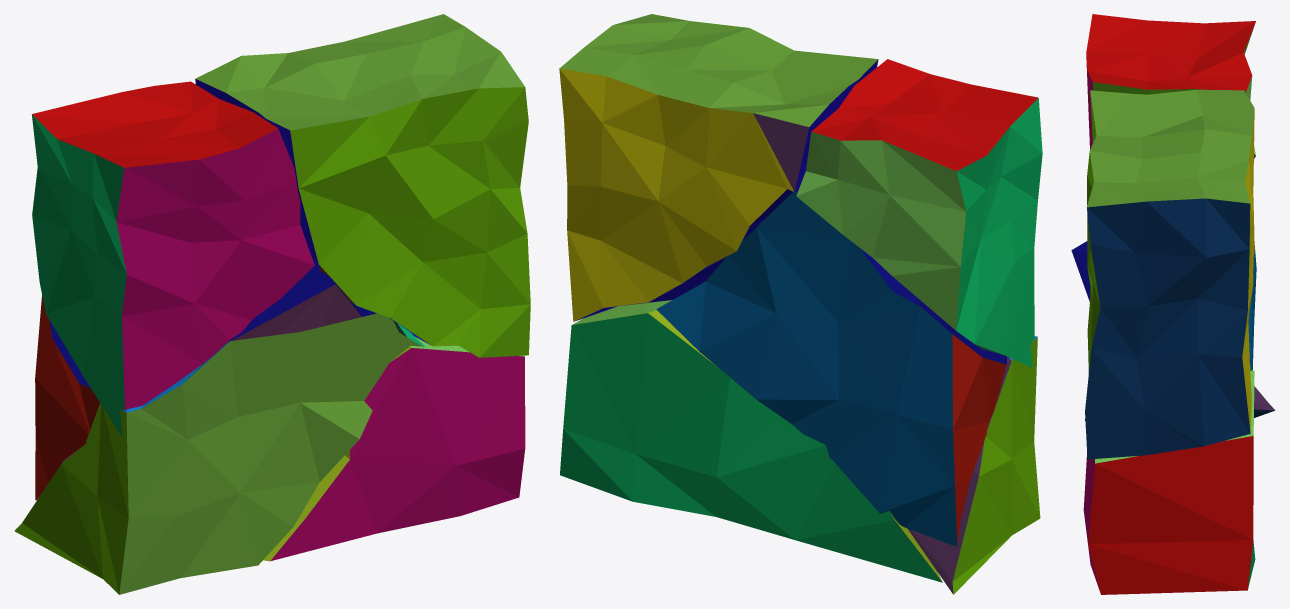
File: CrackedWall.fbx
The picture shows the model from 3 angles, left to right: view 1: azimuth 30°, elevation 25°; view 2: azimuth 150°, elevation 25°; view 3: azimuth 270°, elevation 25°; orthographic projection. The views are drawn at different scales.
Parts seen in each view (by area): view 1: CrackedWall, CrackedWall.002, CrackedWall.003, CrackedWall.004, CrackedWall.001; view 2: CrackedWall, CrackedWall.001, CrackedWall.002, CrackedWall.004, CrackedWall.003; view 3: CrackedWall, CrackedWall.004, CrackedWall.002, CrackedWall.001, CrackedWall.003.
Part boxes in pixels (x1,y1,x2,y2): CrackedWall: (195, 14, 530, 357); CrackedWall.002: (31, 81, 314, 437); CrackedWall.003: (14, 313, 424, 594); CrackedWall.004: (263, 337, 525, 561); CrackedWall.001: (35, 262, 375, 500); CrackedWall: (559, 14, 878, 321); CrackedWall.001: (656, 191, 1006, 546); CrackedWall.002: (796, 59, 1042, 367); CrackedWall.004: (560, 300, 942, 582); CrackedWall.003: (907, 336, 1040, 594); CrackedWall: (1085, 89, 1254, 459); CrackedWall.004: (1083, 370, 1255, 594); CrackedWall.002: (1086, 14, 1255, 158); CrackedWall.001: (1071, 241, 1256, 370); CrackedWall.003: (1085, 386, 1275, 420).
Bounding box in the file's own units: 221 × 218 × 99.15.
